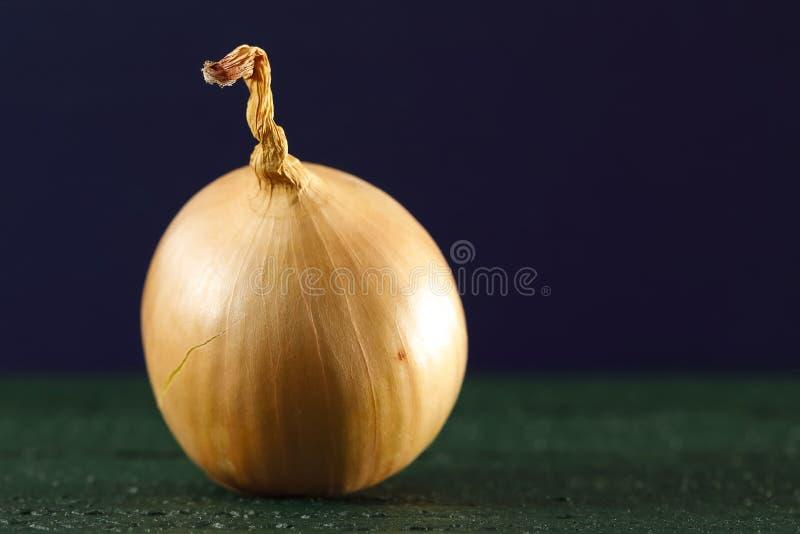Onion: (141, 46, 466, 495)
